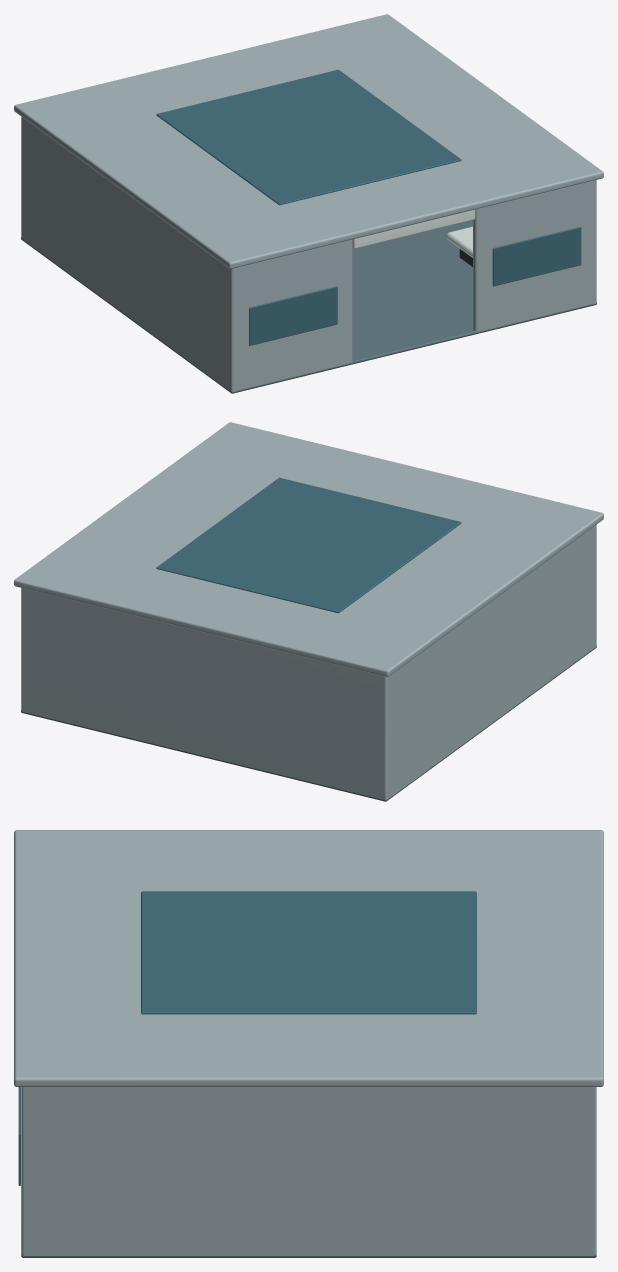
File: clinic-module.glb
The picture shows the model from 3 angles, top to bottom: view 1: azimuth 30°, elevation 25°; view 2: azimuth 150°, elevation 25°; view 3: azimuth 270°, elevation 25°; orthographic projection. The views are drawn at different scales.
Visible parts, largest first — view 1: Roof perimeter, Side wall, Skylight, Raised foundation, Entry wall.001, Entry wall, Front inset.001, Front inset, Entry lintel, Treatment bed.002; view 2: Roof perimeter, Rear structural wall, Side wall, Skylight, Raised foundation; view 3: Roof perimeter, Side wall.001, Skylight, Raised foundation, Rear structural wall.
Boxes of the visible parts, <box> form: Roof perimeter: <box>14,14,603,268</box>; Side wall: <box>21,117,235,391</box>; Skylight: <box>156,69,461,205</box>; Raised foundation: <box>21,220,596,393</box>; Entry wall.001: <box>473,181,593,331</box>; Entry wall: <box>234,239,352,390</box>; Front inset.001: <box>492,227,581,286</box>; Front inset: <box>249,286,337,345</box>; Entry lintel: <box>352,209,475,248</box>; Treatment bed.002: <box>446,226,472,257</box>; Roof perimeter: <box>14,422,603,676</box>; Rear structural wall: <box>22,588,388,799</box>; Side wall: <box>382,525,596,799</box>; Skylight: <box>156,477,461,613</box>; Raised foundation: <box>21,645,596,801</box>; Roof perimeter: <box>14,830,603,1086</box>; Side wall.001: <box>21,1087,596,1255</box>; Skylight: <box>141,891,476,1014</box>; Raised foundation: <box>21,1254,596,1257</box>; Rear structural wall: <box>590,1087,596,1255</box>.
Size of the model in its own units: 12.3 by 4.26 by 12.3.
